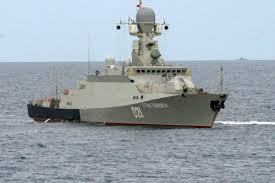tau_muctieu: (30, 18, 225, 136)
